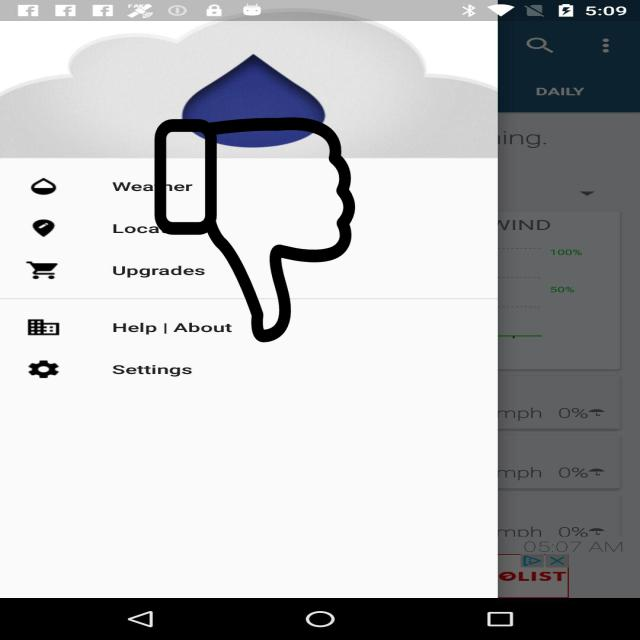obstruction: (152, 118, 358, 342)
